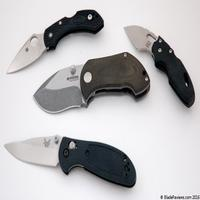knife: (1, 132, 133, 193), (6, 7, 101, 78), (121, 20, 196, 105), (28, 61, 156, 108)
